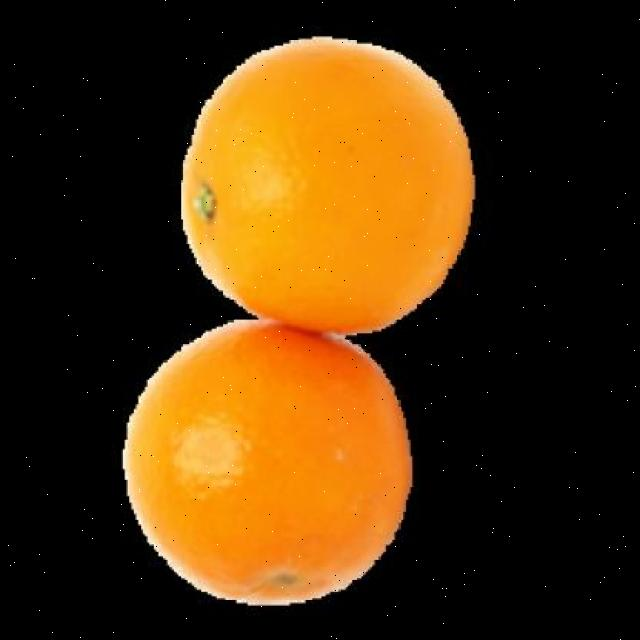Orange: (177, 36, 475, 336), (120, 318, 414, 606)
